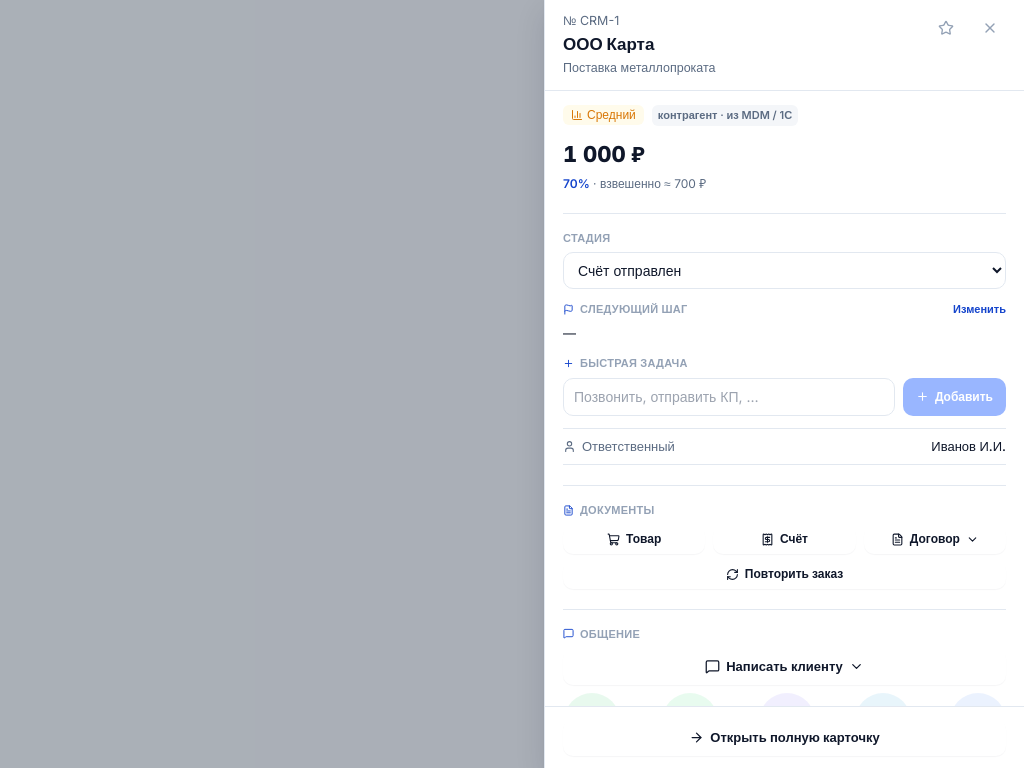
Test: DealDrawerPreview — слайс 7: варианты договора › «Форма клиента» → issueDocument(id, contract) + шаг «Вычитать договор клиента…» (+2 дн)
Click the button "Договор".
click(935, 539)  # box [864,524,1006,554]
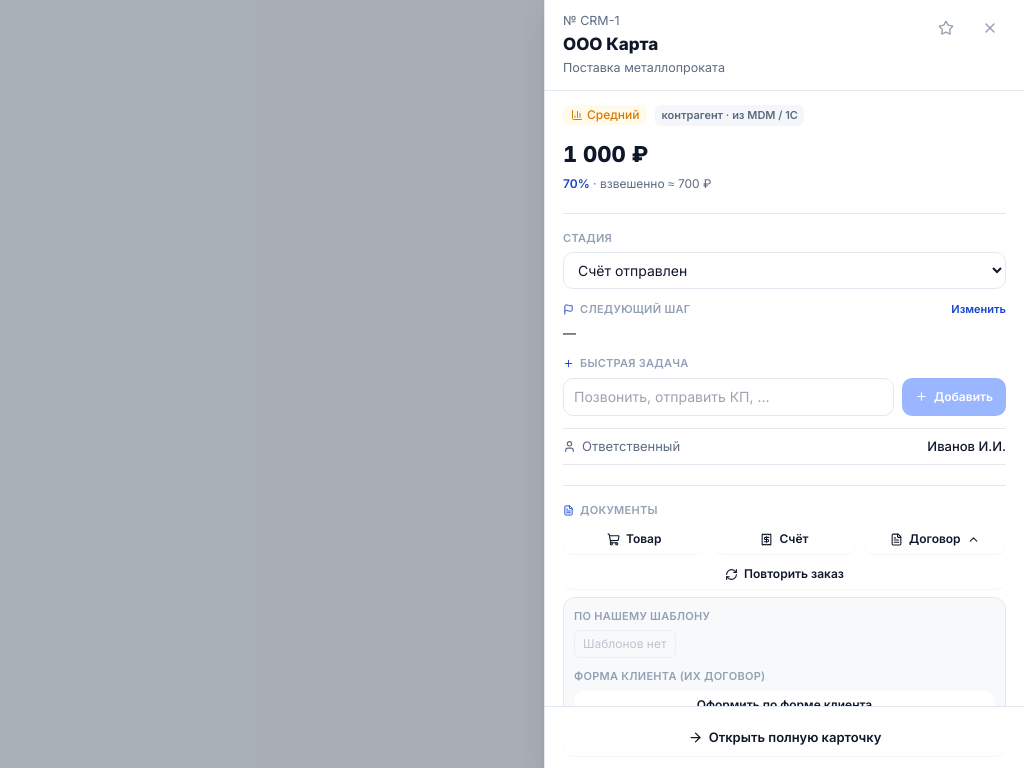
Click the button "Оформить по форме клиента".
click(784, 704)  # box [574,690,995,718]
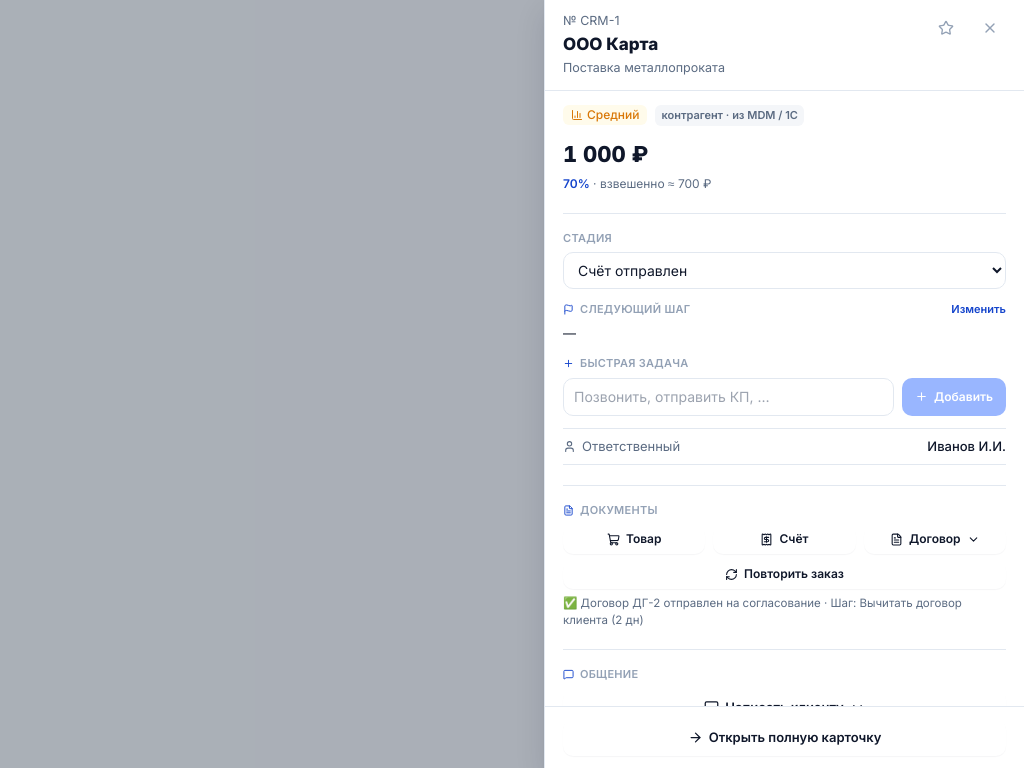
expect the text "Шаг: Вычитать договор клиента" is shown: met, box [563,596,962,627]
